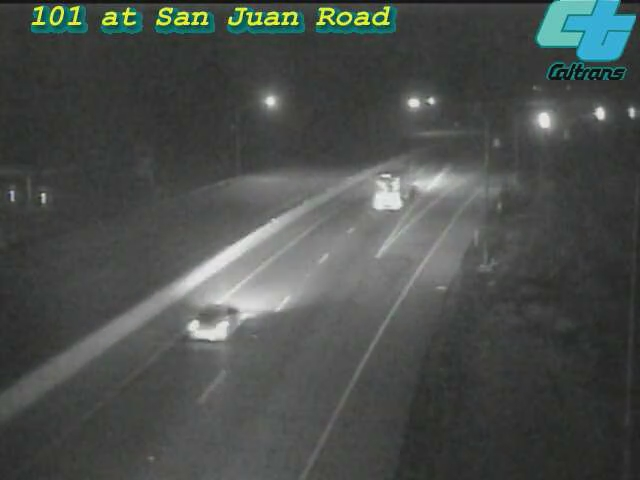vehicle: (354, 148, 434, 228), (174, 279, 254, 359), (520, 94, 570, 144), (575, 87, 625, 137), (607, 89, 640, 139)
